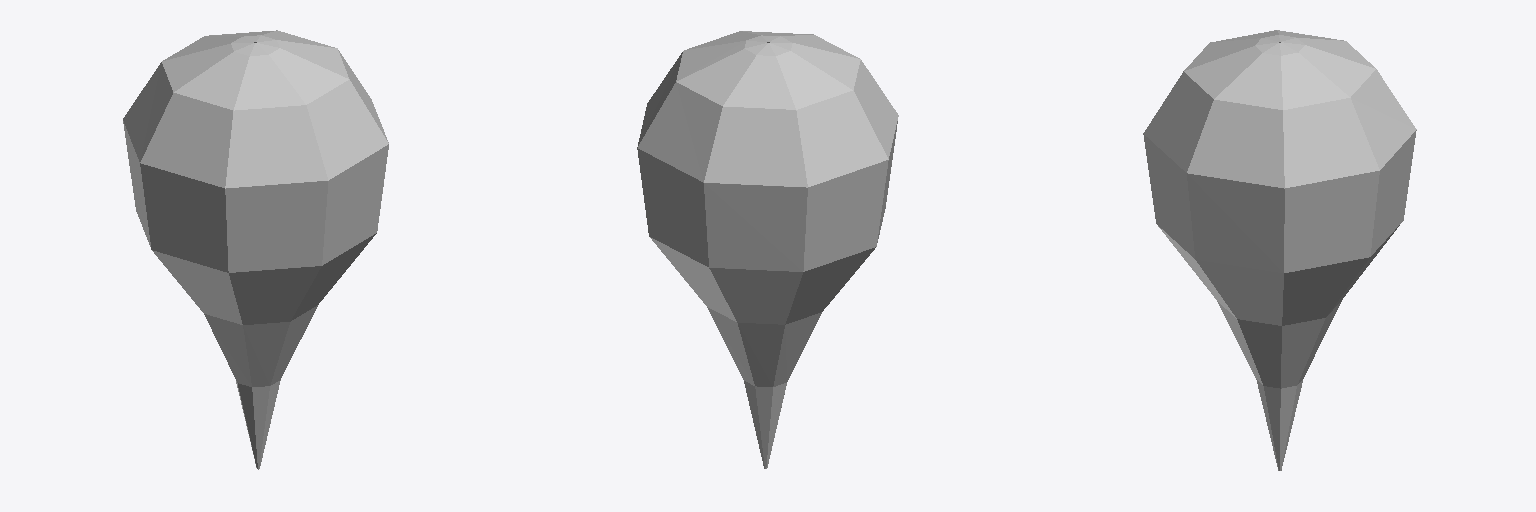
Rendered from drop.obj.
3 views of the same model, side by side, from view 1: azimuth 30°, elevation 25°; view 2: azimuth 150°, elevation 25°; view 3: azimuth 270°, elevation 25° (orthographic).
Parts seen in each view (by area): view 1: Plane; view 2: Plane; view 3: Plane.
Part boxes in pixels (bbox=[...]): Plane: bbox=[123, 30, 388, 469]; Plane: bbox=[637, 31, 898, 468]; Plane: bbox=[1143, 30, 1416, 470].
Bounding box in the file's own units: 0.1869 × 0.322 × 0.1869.